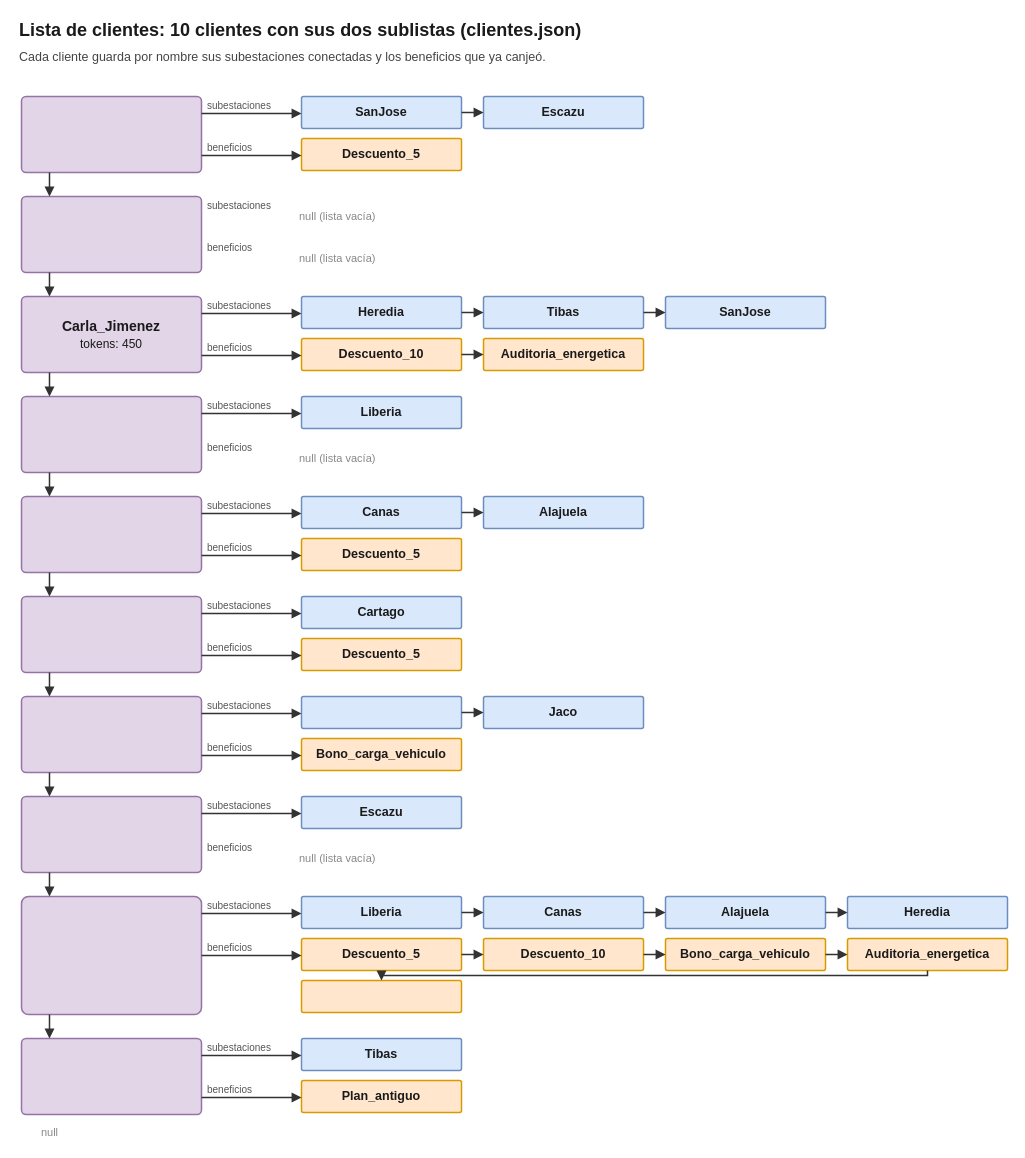
The diagram is 1025 pixels wide and 1158 high, and some of its shapes have lost their labels. Here are the shapes that lost their labels. From the top down, the centre of each, then its label:
At (111,134): "Ana_Mora tokens: 120".
At (111,234): "Bruno_Solis tokens: 0".
At (111,434): "Diego_Vargas tokens: 35".
At (111,534): "Elena_Rojas tokens: 260".
At (111,634): "Fabian_Castro tokens: 0".
At (381,712): "Puntarenas".
At (111,734): "Gabriela_Pineda tokens: 700".
At (111,834): "Hector_Ulate tokens: 90".
At (111,955): "Irene_Campos tokens: 1000".
At (381,996): "Panel_solar_parcial".
At (111,1076): "Jorge_Arias tokens: 15".
